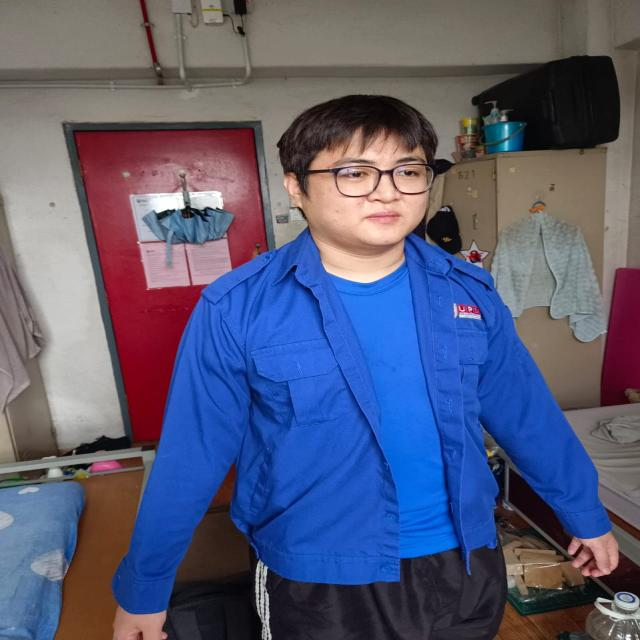person_with_labcoat: (113, 96, 617, 640)
